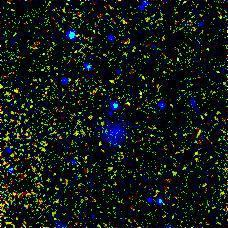star: (159, 47, 189, 77)
